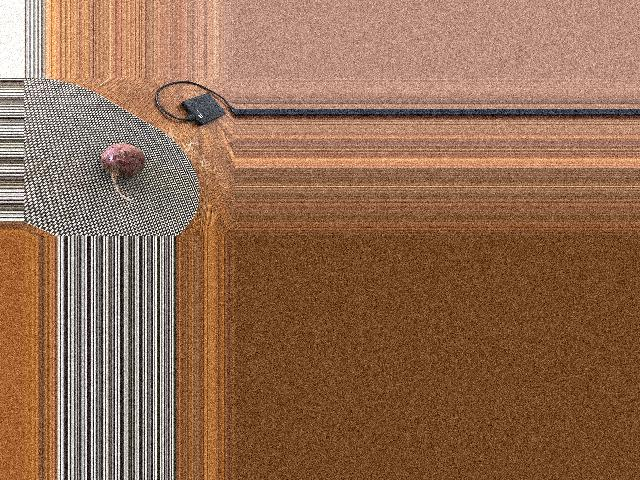beet: (101, 144, 145, 202)
